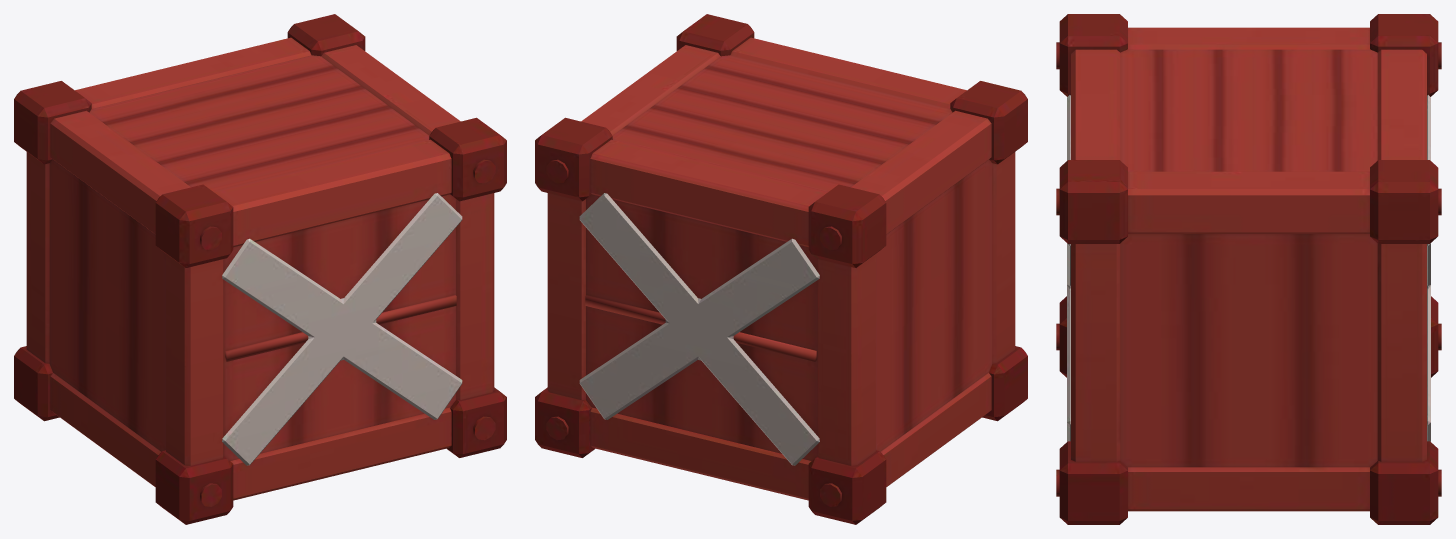
File: xbox_red_2_high.glb
3 views of the same model, side by side, from view 1: azimuth 30°, elevation 25°; view 2: azimuth 150°, elevation 25°; view 3: azimuth 270°, elevation 25° (orthographic). The views are drawn at different scales.
Parts seen in each view (by area): view 1: xbox_red_2; view 2: xbox_red_2; view 3: xbox_red_2.
Part boxes in pixels (x1,y1,x2,y2): xbox_red_2: (14, 14, 506, 524); xbox_red_2: (535, 14, 1027, 524); xbox_red_2: (1056, 14, 1441, 524).
Size of the model in its own units: 0.698 by 0.638 by 0.65.
1 material, 1 textured.
